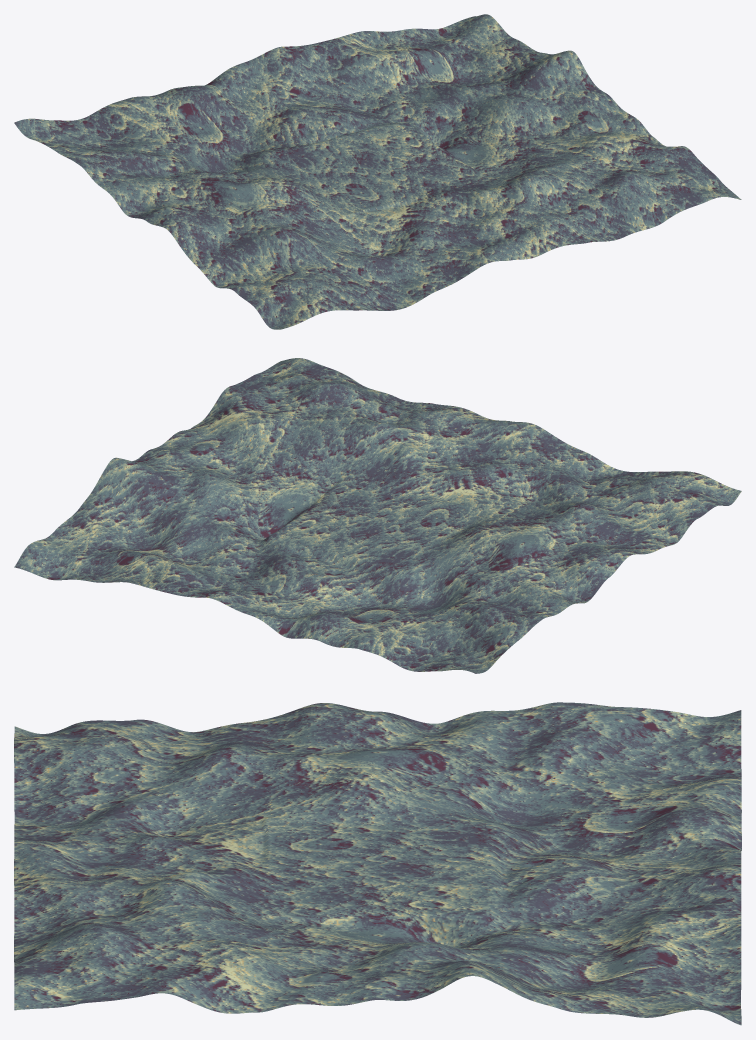
The model's file is Moonbased.glb.
3 renders of one model, top to bottom at view 1: azimuth 30°, elevation 25°; view 2: azimuth 150°, elevation 25°; view 3: azimuth 270°, elevation 25°, orthographic. The views are drawn at different scales.
Parts seen in each view (by area): view 1: Moon Surface; view 2: Moon Surface; view 3: Moon Surface.
Part boxes in pixels (x1=…): Moon Surface: x1=14, y1=14, x2=741, y2=329; Moon Surface: x1=14, y1=358, x2=741, y2=673; Moon Surface: x1=14, y1=702, x2=741, y2=1025.
Size of the model in its own units: 60.03 by 6.51 by 60.07.
Materials: 1 (1 with a texture image).
